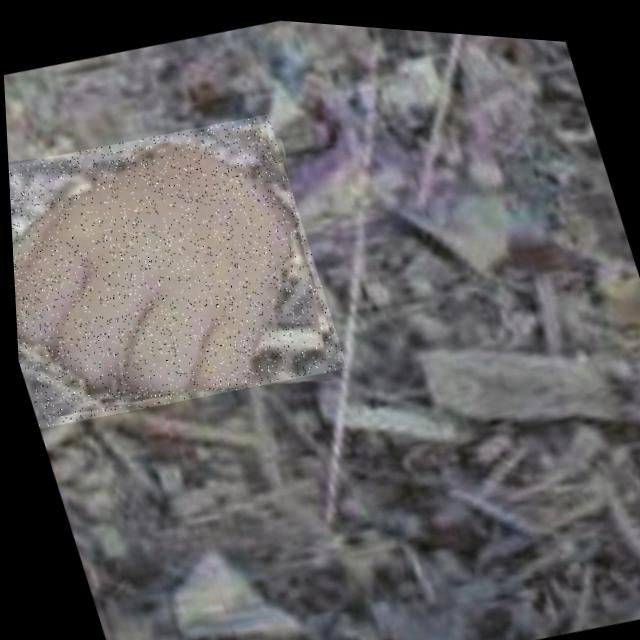Person in Rubble: (4, 94, 346, 446)
